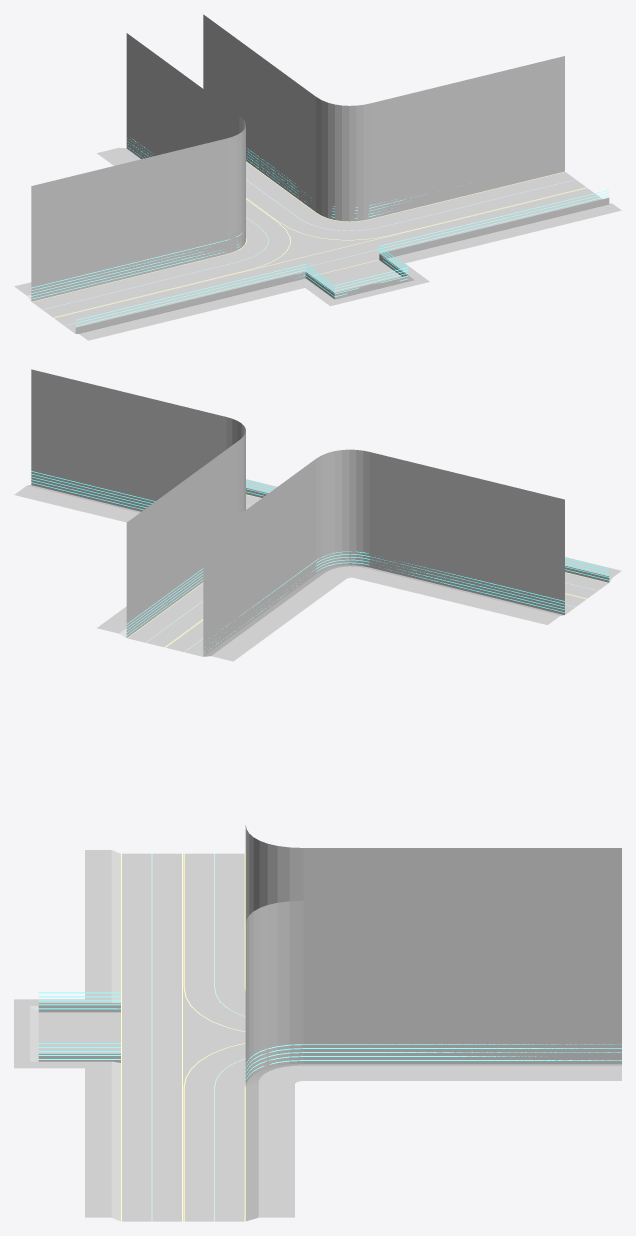
File: RoadRamp.fbx
3 views of the same model, one above another, from view 1: azimuth 30°, elevation 25°; view 2: azimuth 150°, elevation 25°; view 3: azimuth 270°, elevation 25° (orthographic). The views are drawn at different scales.
Parts seen in each view (by area): view 1: Plane.042, Plane.040, Plane.047, Plane.048; view 2: Plane.047, Plane.042, Plane.040, Plane.048; view 3: Plane.040, Plane.042, Plane.047, Plane.048.
Boxes of the visible parts, box(x1,y1,x2,y2) form: Plane.042: box(203, 14, 564, 221); Plane.040: box(14, 138, 621, 340); Plane.047: box(31, 33, 245, 301); Plane.048: box(75, 197, 609, 333); Plane.047: box(203, 449, 564, 656); Plane.042: box(31, 369, 245, 637); Plane.040: box(14, 471, 621, 661); Plane.048: box(246, 488, 609, 582); Plane.040: box(14, 850, 621, 1221); Plane.042: box(245, 900, 621, 1086); Plane.047: box(245, 825, 621, 923); Plane.048: box(38, 1003, 120, 1062).
Size of the model in its own units: 17179 by 3556 by 12002.
